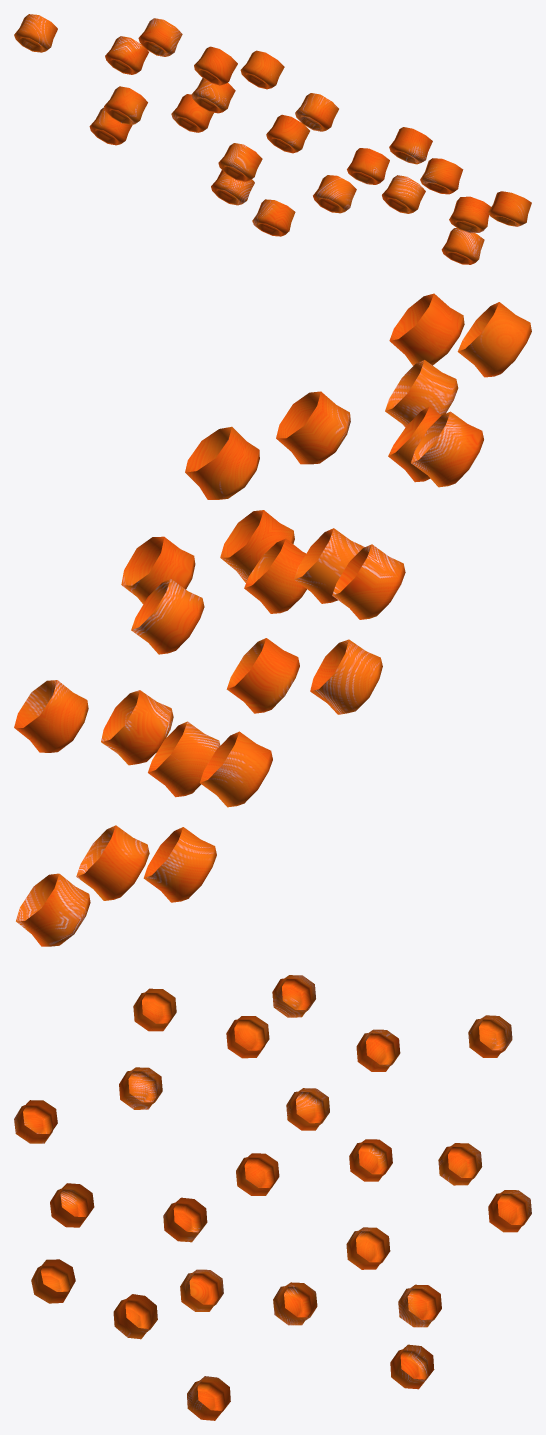
Rendered from NMOSD_AstroRecept.fbx.
The picture shows the model from 3 angles, top to bottom: view 1: azimuth 30°, elevation 25°; view 2: azimuth 150°, elevation 25°; view 3: azimuth 270°, elevation 25°; orthographic projection. The views are drawn at different scales.
Parts seen in each view (by area): view 1: Cylinder.014; view 2: Cylinder.014; view 3: Cylinder.014.
Part boxes in pixels (x1,y1,x2,y2): Cylinder.014: (14,14,531,264); Cylinder.014: (14,293,531,946); Cylinder.014: (14,975,531,1420).
Bounding box in the file's own units: 190 × 167 × 237.
